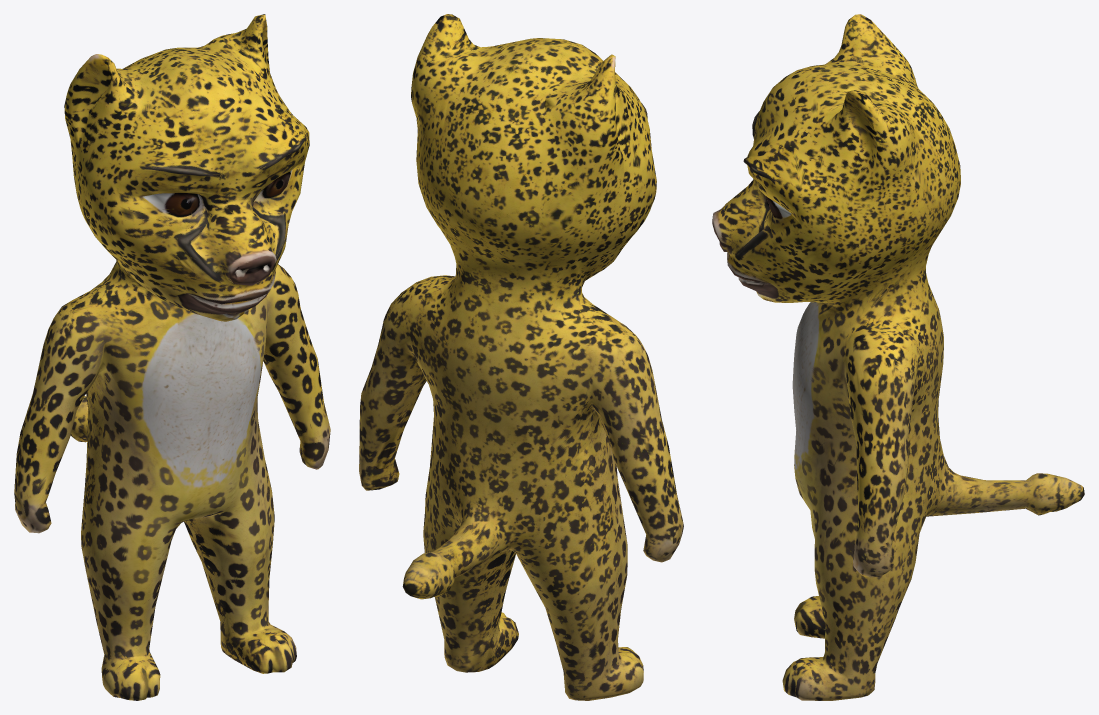
3 views of the same model, side by side, from view 1: azimuth 30°, elevation 25°; view 2: azimuth 150°, elevation 25°; view 3: azimuth 270°, elevation 25° (orthographic). The views are drawn at different scales.
Visible parts, largest first — view 1: tripo_node_7a614601; view 2: tripo_node_7a614601; view 3: tripo_node_7a614601.
Part boxes in pixels (box(x1,y1,x2,y2)): tripo_node_7a614601: box(14, 14, 330, 700); tripo_node_7a614601: box(359, 14, 683, 700); tripo_node_7a614601: box(712, 14, 1084, 700).
Bounding box in the file's own units: 0.5161 × 1 × 0.5533.
Materials: 1 (1 with a texture image).
